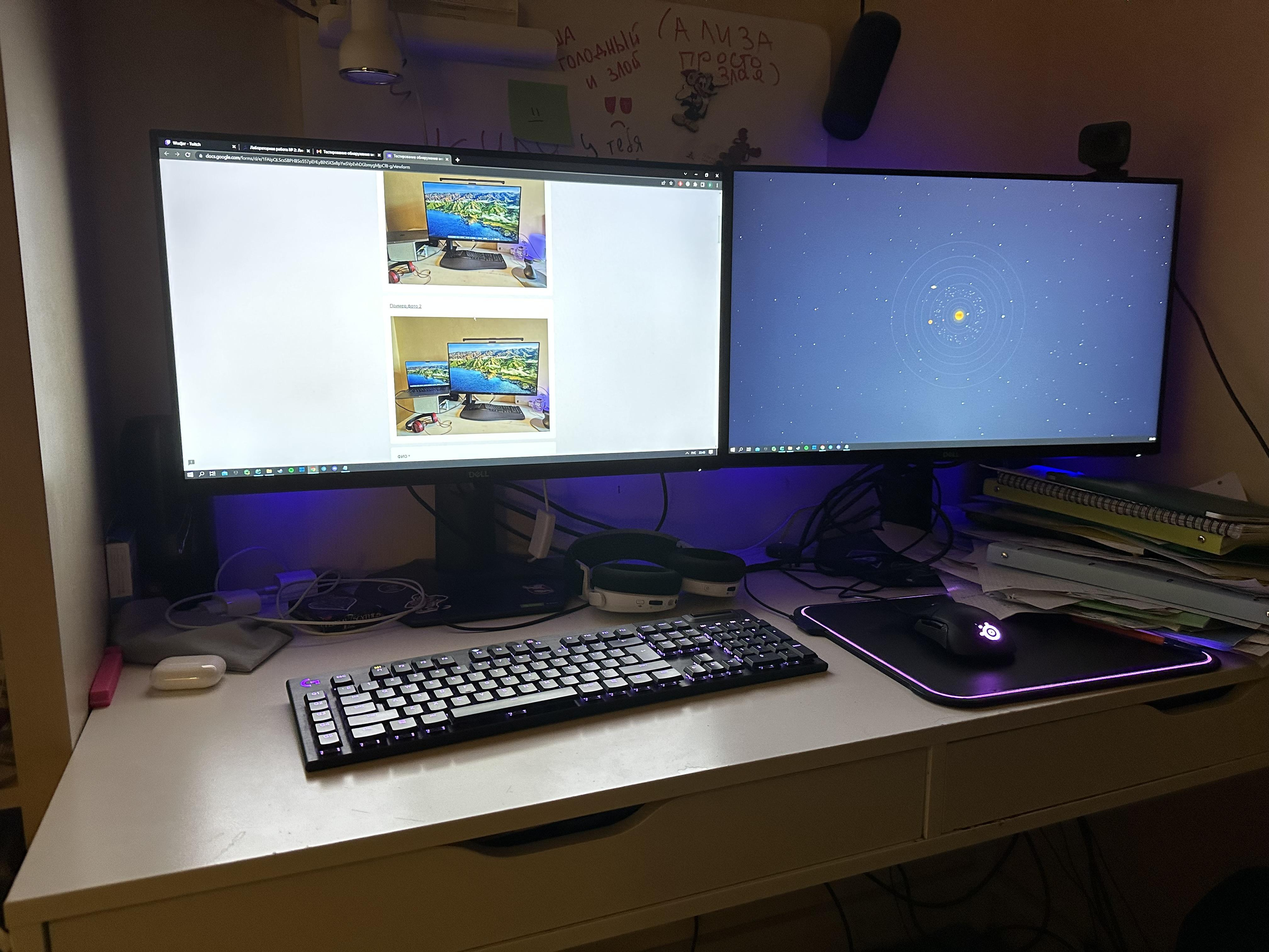monitor: (143, 118, 741, 491), (711, 159, 1188, 477)
